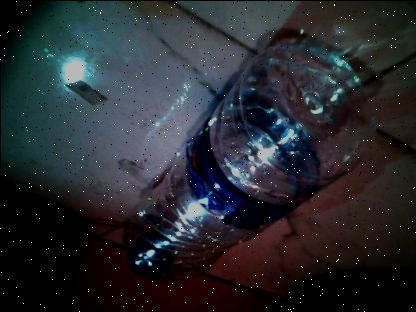Plastic Bottle: (116, 28, 376, 288)
